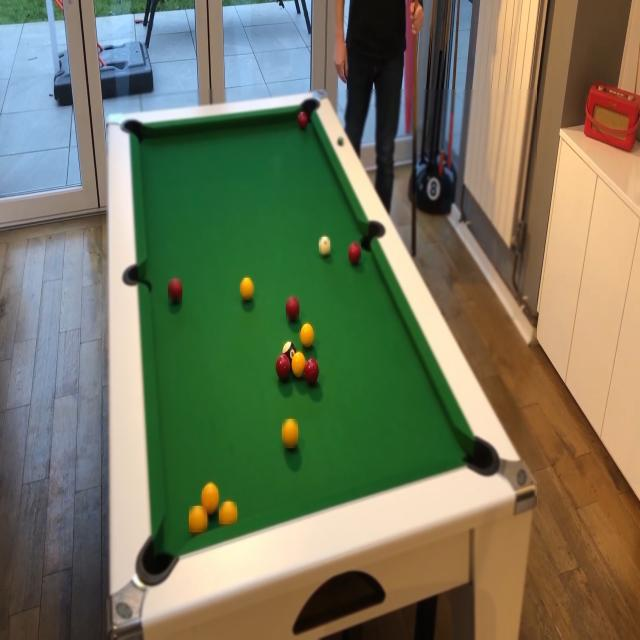Ball: (202, 482, 218, 514), (190, 506, 208, 532), (282, 419, 298, 448), (219, 502, 237, 524), (276, 354, 291, 380), (305, 358, 319, 385), (291, 352, 305, 378), (300, 323, 314, 348), (168, 279, 182, 302), (240, 278, 254, 300), (286, 297, 299, 320), (349, 242, 361, 263), (281, 342, 296, 358), (319, 237, 330, 257), (298, 112, 307, 128)
Billiard table: (106, 89, 537, 640)
